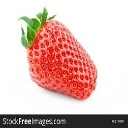strawberry: (16, 7, 99, 103)
